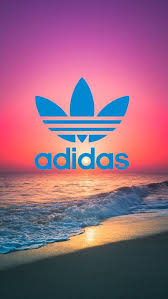adidas: (34, 77, 130, 169)
